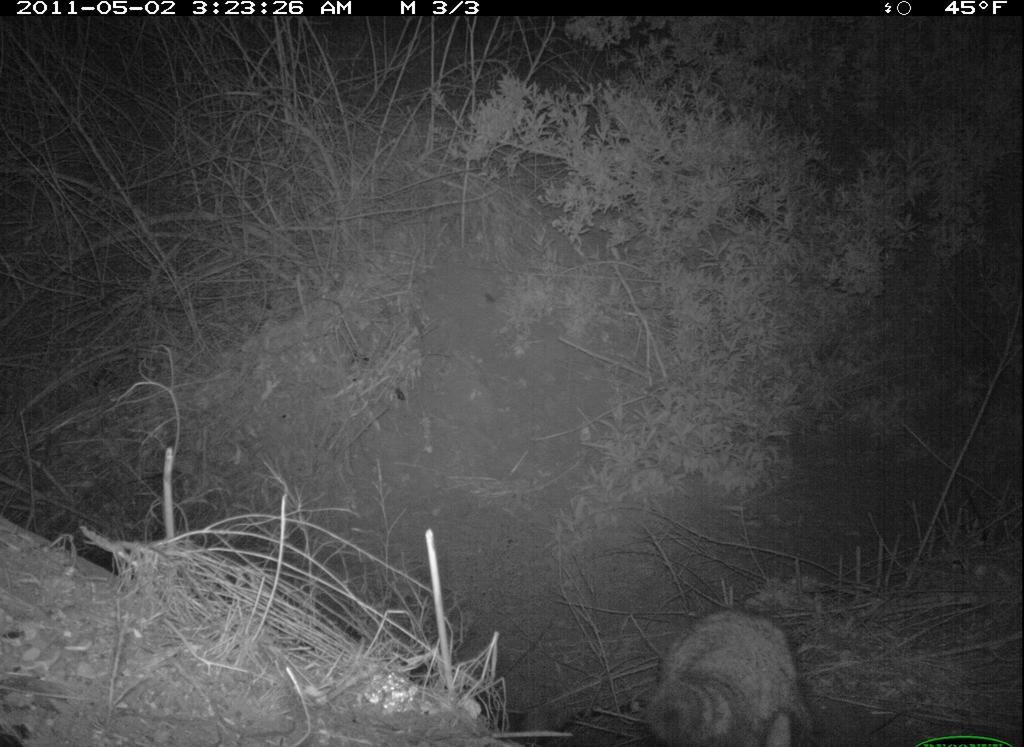raccoon: (635, 598, 829, 747)
